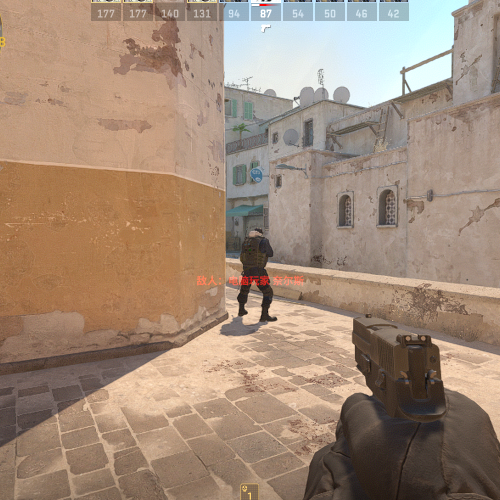ct_body: (239, 227, 277, 323)
ct_head: (248, 227, 264, 239)
